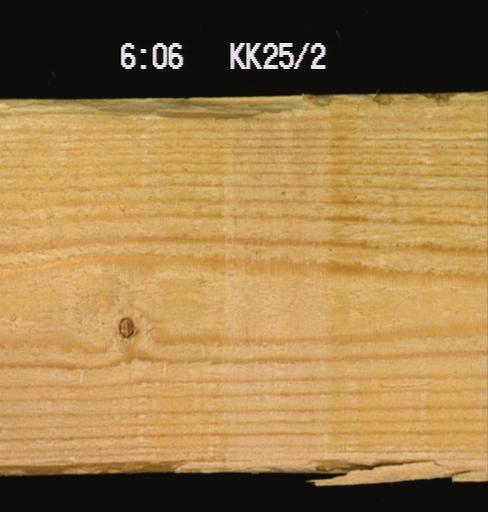dry_knot: (115, 312, 134, 338)
wave: (0, 97, 329, 120), (0, 445, 241, 473), (304, 445, 487, 471)
